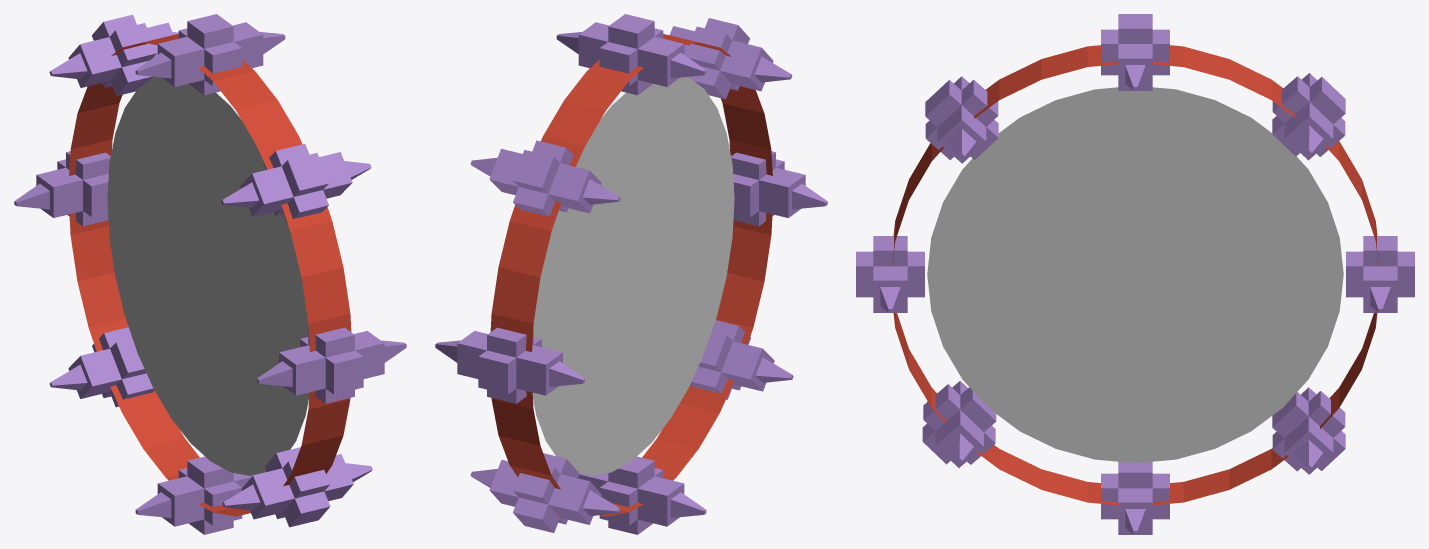
Rendered from shild.fbx.
3 views of the same model, side by side, from view 1: azimuth 30°, elevation 25°; view 2: azimuth 150°, elevation 25°; view 3: azimuth 270°, elevation 25° (orthographic).
Visible parts, largest first — view 1: Circle, Cube.000, Cube.001, Cube.002, Cube.008, Cylinder.002, Cube.003, Cube.007, Cylinder.006, Cube.005, Cube.006, Cylinder.001 (+3 smaller); view 2: Circle, Cube.005, Cube.003, Cube.002, Cube.006, Cylinder.007, Cube.001, Cube.007, Cube.000, Cylinder.003, Cube.008, Cylinder.008 (+3 smaller); view 3: Circle, Cube.003, Cube.001, Cube.006, Cube.008, Cube.005, Cube.000, Cube.002, Cube.007, Cylinder.001, Cylinder.008, Cylinder.004 (+5 smaller).
Part boxes in pixels (bbox=[...]): Circle: bbox=[107, 77, 309, 475]; Cube.000: bbox=[257, 327, 406, 403]; Cube.001: bbox=[221, 144, 371, 224]; Cube.002: bbox=[135, 14, 285, 95]; Cube.008: bbox=[222, 447, 372, 527]; Cylinder.002: bbox=[281, 203, 351, 352]; Cube.003: bbox=[49, 14, 178, 95]; Cube.007: bbox=[135, 456, 266, 534]; Cylinder.006: bbox=[69, 213, 128, 351]; Cube.005: bbox=[14, 151, 110, 226]; Cube.006: bbox=[49, 327, 154, 407]; Cylinder.001: bbox=[198, 60, 302, 169]; Circle: bbox=[532, 77, 734, 475]; Cube.005: bbox=[435, 327, 584, 403]; Cube.003: bbox=[470, 140, 620, 216]; Cube.002: bbox=[556, 14, 706, 95]; Cube.006: bbox=[470, 453, 620, 532]; Cylinder.007: bbox=[490, 201, 561, 352]; Cube.001: bbox=[670, 18, 792, 99]; Cube.007: bbox=[576, 456, 706, 534]; Cube.000: bbox=[731, 151, 827, 226]; Cylinder.003: bbox=[716, 213, 772, 344]; Cube.008: bbox=[690, 320, 793, 399]; Cylinder.008: bbox=[541, 60, 643, 166]; Circle: bbox=[927, 87, 1343, 463]; Cube.003: bbox=[1272, 73, 1345, 160]; Cube.001: bbox=[925, 76, 998, 163]; Cube.006: bbox=[1272, 387, 1345, 474]; Cube.008: bbox=[922, 381, 996, 467]; Cube.005: bbox=[1346, 236, 1414, 312]; Cube.000: bbox=[856, 236, 924, 312]; Cube.002: bbox=[1101, 14, 1169, 90]; Cube.007: bbox=[1101, 461, 1169, 534]; Cylinder.001: bbox=[974, 45, 1118, 118]; Cylinder.008: bbox=[1152, 45, 1294, 117]; Cylinder.004: bbox=[977, 445, 1118, 505].
Size of the model in its own units: 1.4 by 4.56 by 4.56.
